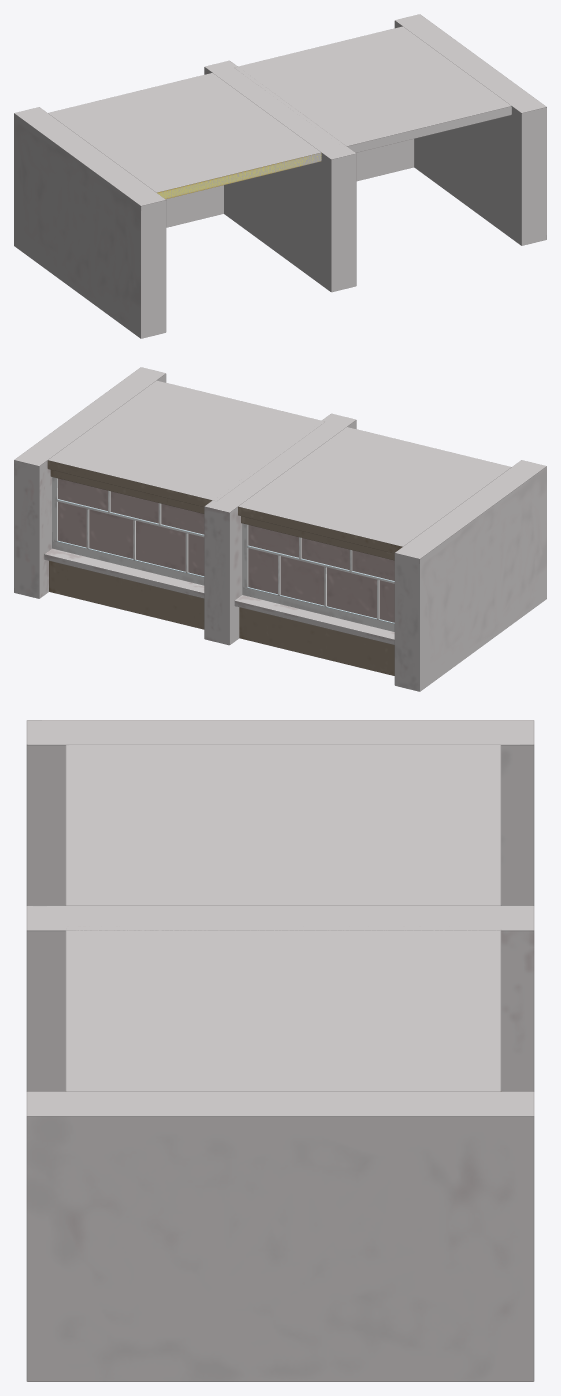
The model's file is AptBuilding01.fbx.
The picture shows the model from 3 angles, top to bottom: view 1: azimuth 30°, elevation 25°; view 2: azimuth 150°, elevation 25°; view 3: azimuth 270°, elevation 25°; orthographic projection. The views are drawn at different scales.
Visible parts, largest first — view 1: cuboid_2, cuboid_18, cuboid_19, cuboid_3, cuboid_1, cuboid_4, cuboid_31, cuboid; view 2: cuboid_2, cuboid_18, cuboid_19, cuboid_32, cuboid_28, cuboid_1, cuboid_3, cuboid_31, cuboid_4, cuboid_5, cuboid_30, cuboid_6 (+6 smaller); view 3: cuboid_1, cuboid_18, cuboid_19, cuboid_3, cuboid_2.
Boxes of the visible parts, bbox=[...] form: cuboid_2: bbox=[14, 107, 166, 338]; cuboid_18: bbox=[234, 26, 511, 152]; cuboid_19: bbox=[48, 73, 321, 198]; cuboid_3: bbox=[204, 60, 356, 292]; cuboid_1: bbox=[394, 14, 546, 245]; cuboid_4: bbox=[356, 139, 414, 181]; cuboid_31: bbox=[166, 185, 223, 227]; cuboid: bbox=[157, 153, 321, 199]; cuboid_2: bbox=[394, 460, 546, 691]; cuboid_18: bbox=[47, 380, 324, 506]; cuboid_19: bbox=[238, 427, 511, 553]; cuboid_32: bbox=[58, 478, 204, 575]; cuboid_28: bbox=[248, 525, 394, 622]; cuboid_1: bbox=[14, 367, 166, 598]; cuboid_3: bbox=[204, 413, 356, 645]; cuboid_31: bbox=[239, 607, 394, 675]; cuboid_4: bbox=[49, 561, 204, 629]; cuboid_5: bbox=[44, 548, 204, 598]; cuboid_30: bbox=[234, 595, 394, 644]; cuboid_6: bbox=[52, 540, 204, 585]; cuboid_1: bbox=[26, 1091, 534, 1381]; cuboid_18: bbox=[65, 927, 501, 1091]; cuboid_19: bbox=[65, 745, 501, 905]; cuboid_3: bbox=[26, 905, 534, 1091]; cuboid_2: bbox=[26, 720, 534, 905].
Bounding box in the file's own units: 300 × 93.75 × 162.
Materials: 1 (1 with a texture image).
